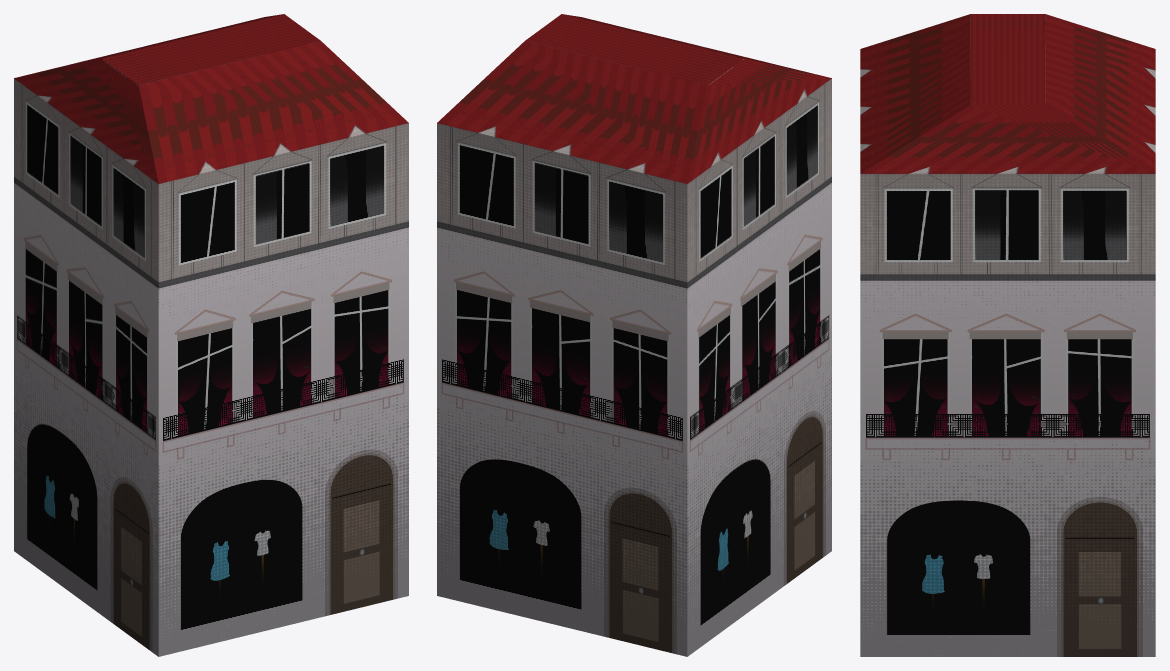
The model's file is Building02.fbx.
3 views of the same model, side by side, from view 1: azimuth 30°, elevation 25°; view 2: azimuth 150°, elevation 25°; view 3: azimuth 270°, elevation 25° (orthographic). The views are drawn at different scales.
Visible parts, largest first — view 1: Building02; view 2: Building02; view 3: Building02.
Boxes of the visible parts, x1,y1,x2,y2 form: Building02: (14, 14, 408, 656); Building02: (437, 14, 831, 656); Building02: (860, 14, 1155, 656).
Bounding box in the file's own units: 1024 × 2048 × 1024.
